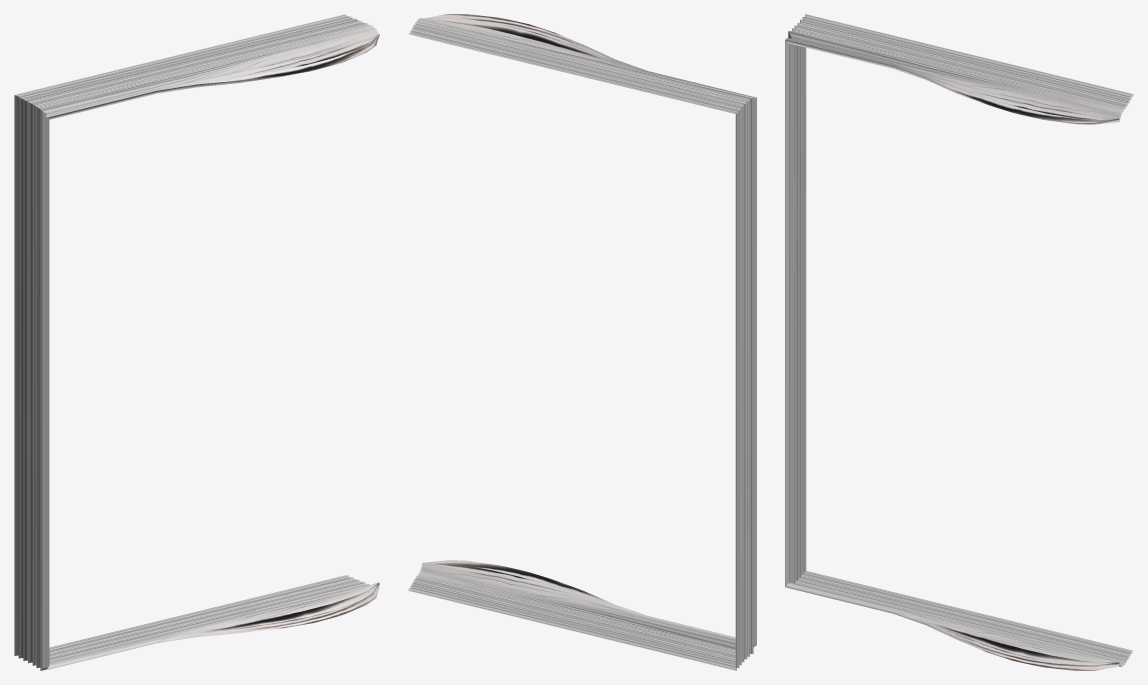
File: MeshBook_6_0_GeomSubset_1.obj
3 views of the same model, side by side, from view 1: azimuth 30°, elevation 25°; view 2: azimuth 150°, elevation 25°; view 3: azimuth 330°, elevation 25° (orthographic).
Parts seen in each view (by area): view 1: MeshBook_6_0_GeomSubset_1; view 2: MeshBook_6_0_GeomSubset_1; view 3: MeshBook_6_0_GeomSubset_1.
Part boxes in pixels (x1,y1,x2,y2): MeshBook_6_0_GeomSubset_1: (14,14,379,670); MeshBook_6_0_GeomSubset_1: (408,14,756,670); MeshBook_6_0_GeomSubset_1: (785,14,1133,670).
Size of the model in its own units: 0.1479 by 0.2328 by 0.0341.
